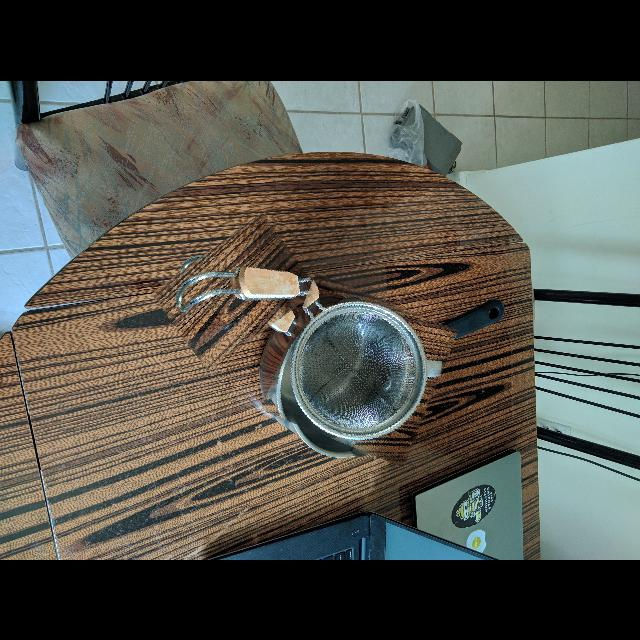Handle: (167, 267, 310, 325)
Strainer: (280, 295, 422, 443)
